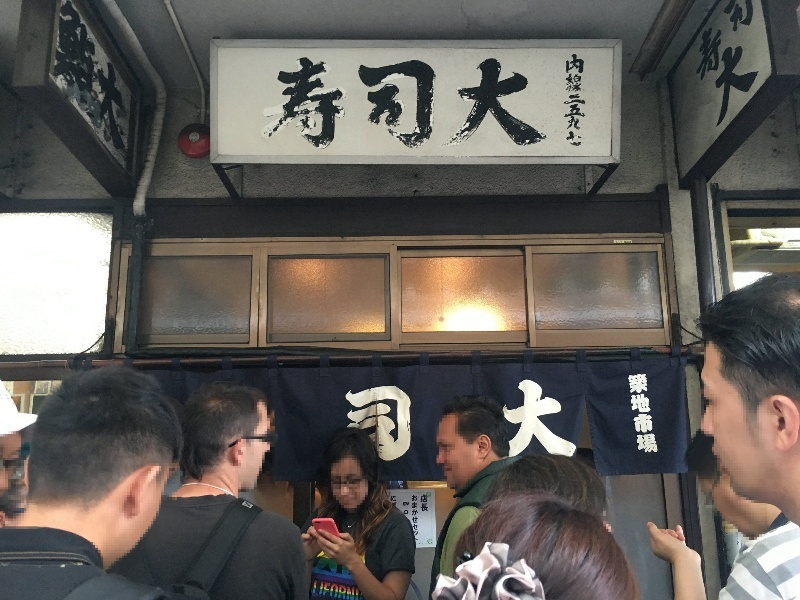text: (81, 1, 96, 160), (97, 1, 112, 160), (113, 1, 128, 160), (70, 1, 80, 160), (721, 28, 736, 132), (737, 28, 752, 132), (273, 56, 288, 151), (289, 56, 304, 151), (305, 56, 320, 151), (321, 56, 336, 151), (337, 56, 352, 151), (353, 56, 368, 151), (369, 56, 384, 151), (385, 56, 400, 151), (401, 56, 416, 151), (417, 56, 432, 151), (433, 56, 448, 151), (449, 56, 464, 151), (465, 56, 480, 151), (481, 56, 496, 151), (497, 56, 512, 151), (513, 56, 528, 151), (529, 56, 544, 151), (497, 376, 512, 468), (513, 376, 528, 468), (529, 376, 544, 468), (545, 376, 560, 468), (561, 376, 576, 468), (689, 2, 704, 90), (705, 2, 720, 90), (721, 2, 736, 90), (737, 2, 752, 90), (641, 372, 656, 459), (353, 384, 368, 466), (369, 384, 384, 466), (385, 384, 400, 466), (401, 384, 415, 466), (753, 2, 766, 90), (627, 372, 640, 459), (129, 1, 136, 160), (565, 51, 576, 149), (577, 51, 587, 149), (262, 56, 272, 151), (753, 28, 762, 132), (342, 384, 352, 466), (713, 28, 720, 132), (577, 376, 582, 468), (545, 56, 549, 151), (657, 372, 660, 459), (321, 581, 336, 598), (337, 581, 352, 598), (420, 494, 432, 513), (411, 494, 416, 536), (402, 502, 416, 515), (353, 581, 359, 598), (314, 579, 320, 595), (417, 494, 419, 536), (390, 495, 400, 503)
